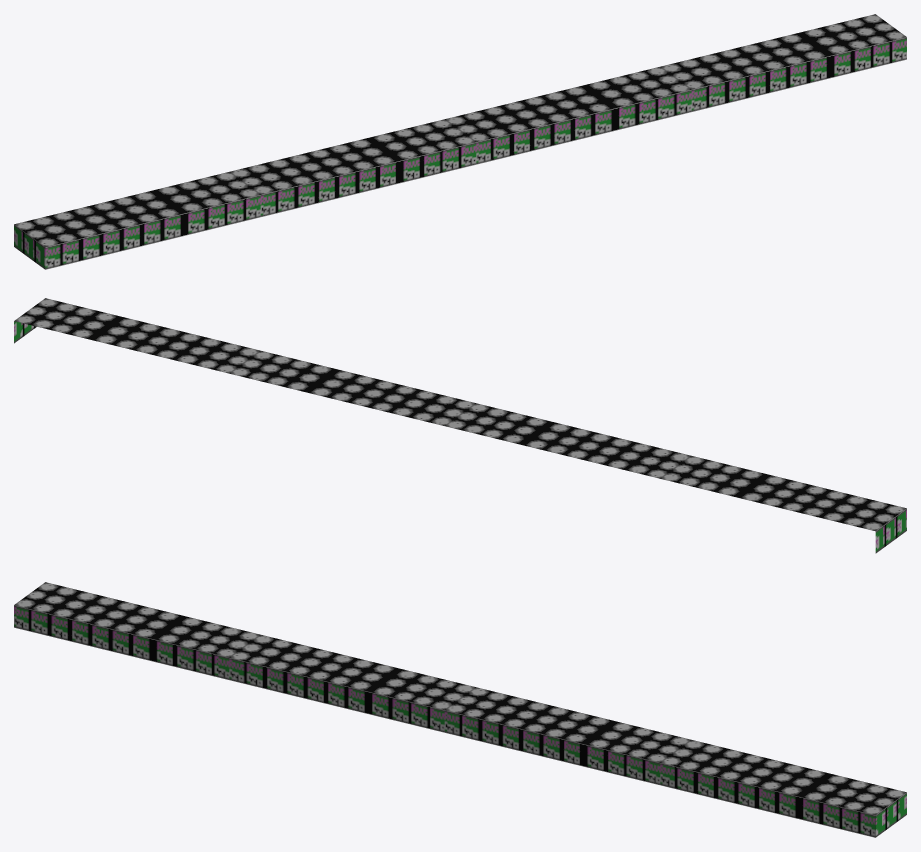
File: Wares__long_green.fbx
The picture shows the model from 3 angles, top to bottom: view 1: azimuth 30°, elevation 25°; view 2: azimuth 150°, elevation 25°; view 3: azimuth 330°, elevation 25°; orthographic projection.
Parts seen in each view (by area): view 1: wares_long_green; view 2: wares_long_green; view 3: wares_long_green.
Boxes of the visible parts, bbox=[...] form: wares_long_green: bbox=[14, 14, 906, 269]; wares_long_green: bbox=[14, 298, 906, 553]; wares_long_green: bbox=[14, 582, 906, 837].
Bounding box in the file's own units: 800 × 20 × 50.55.
